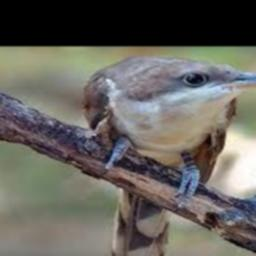Cuckoo: (81, 55, 256, 256)
